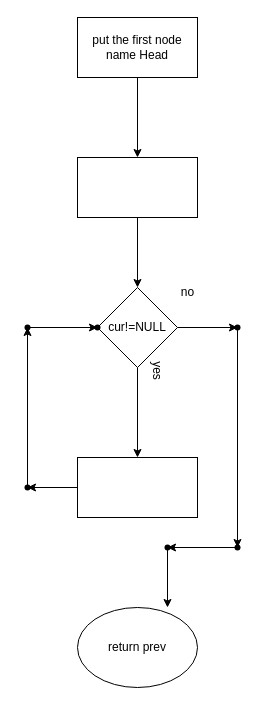
This 265x705 diagram has some shape labels left out. The centre of each missing label's shape, as x and y in pixels:
listNode*prev=Null listNode*cur=head: (x=137, y=187)
nexttemp=cur->next cur->next=prev prev=cur cur=next temp: (x=137, y=487)
